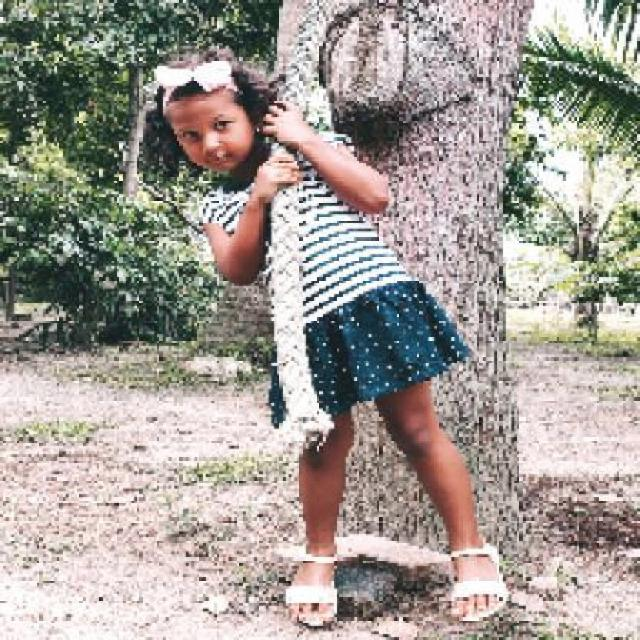child: (142, 44, 515, 627)
